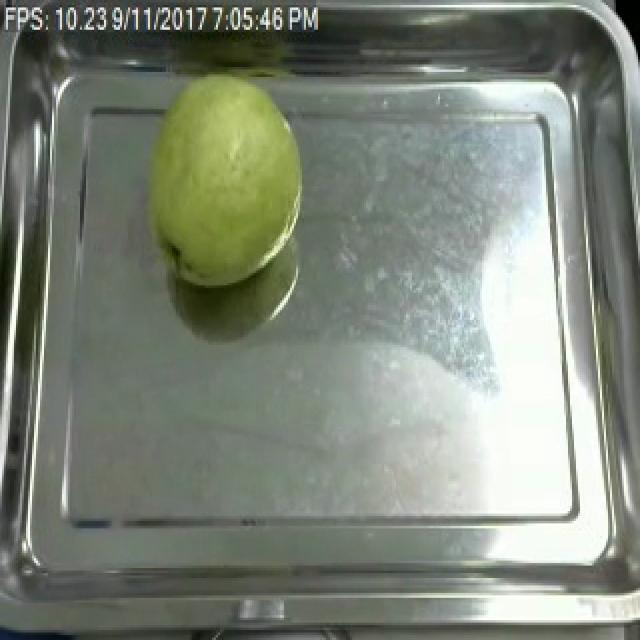Fruit: (132, 65, 312, 295)
